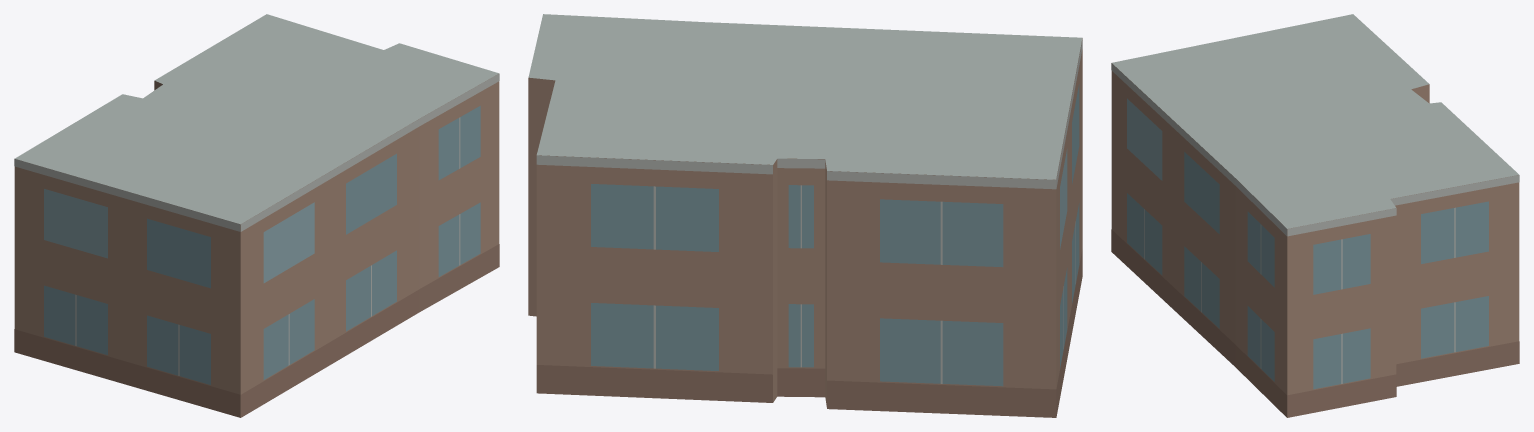
The model's file is survey-upis-32463306.glb.
3 renders of one model, left to right at view 1: azimuth 30°, elevation 25°; view 2: azimuth 150°, elevation 25°; view 3: azimuth 270°, elevation 25°, orthographic. The views are drawn at different scales.
Visible parts, largest first — view 1: survey-upis-32463306.tmp; view 2: survey-upis-32463306.tmp; view 3: survey-upis-32463306.tmp.
Part boxes in pixels (box(x1,y1,x2,y2)): survey-upis-32463306.tmp: box(14, 14, 499, 417); survey-upis-32463306.tmp: box(528, 14, 1082, 417); survey-upis-32463306.tmp: box(1111, 14, 1519, 417).
Bounding box in the file's own units: 14.89 × 6.1 × 11.95.
